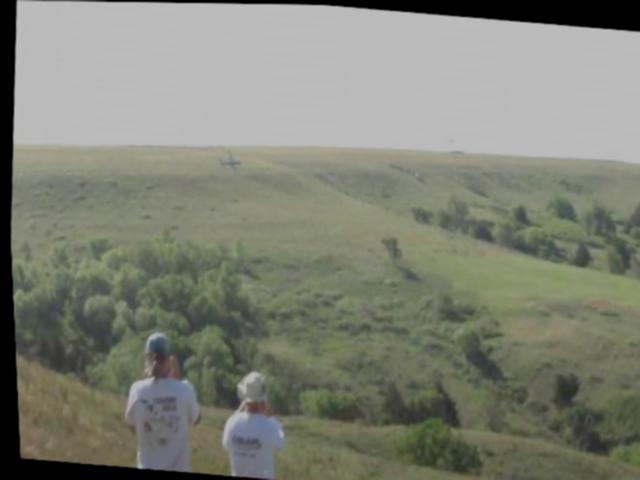iha: (217, 147, 241, 175)
